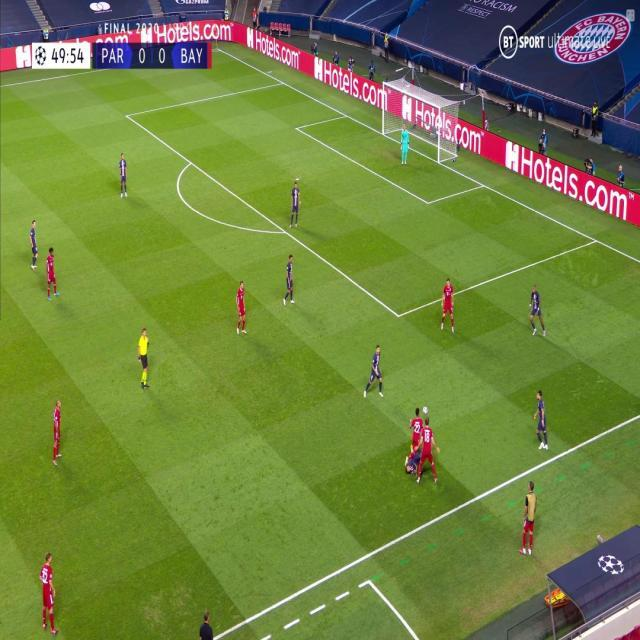ball: (423, 404, 429, 416)
goalkeeper: (399, 125, 410, 166)
player: (39, 552, 59, 636), (414, 421, 439, 486), (406, 406, 425, 476), (364, 343, 385, 400), (528, 284, 547, 336), (533, 389, 549, 450), (51, 399, 64, 465), (440, 278, 455, 333), (45, 246, 59, 301), (235, 280, 248, 336), (283, 253, 296, 307), (28, 218, 40, 272), (289, 179, 301, 230), (118, 153, 128, 198)
referee: (137, 326, 152, 390)
